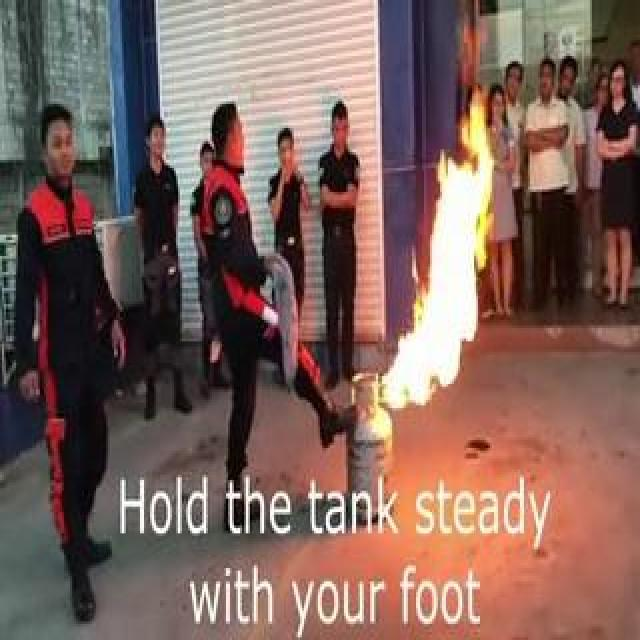Fire: (373, 110, 507, 406)
